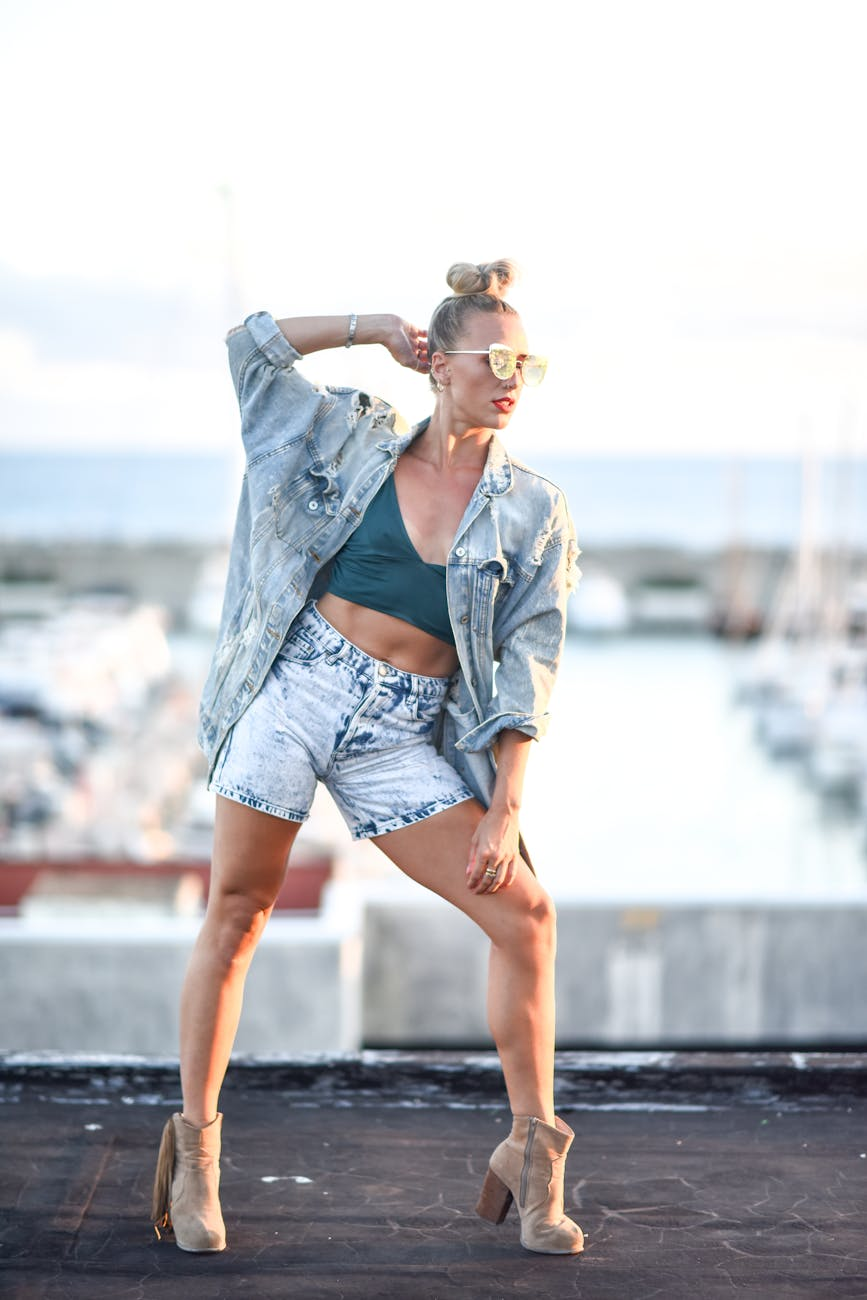crop_top: (306, 412, 532, 636)
shorts: (203, 618, 511, 838)
